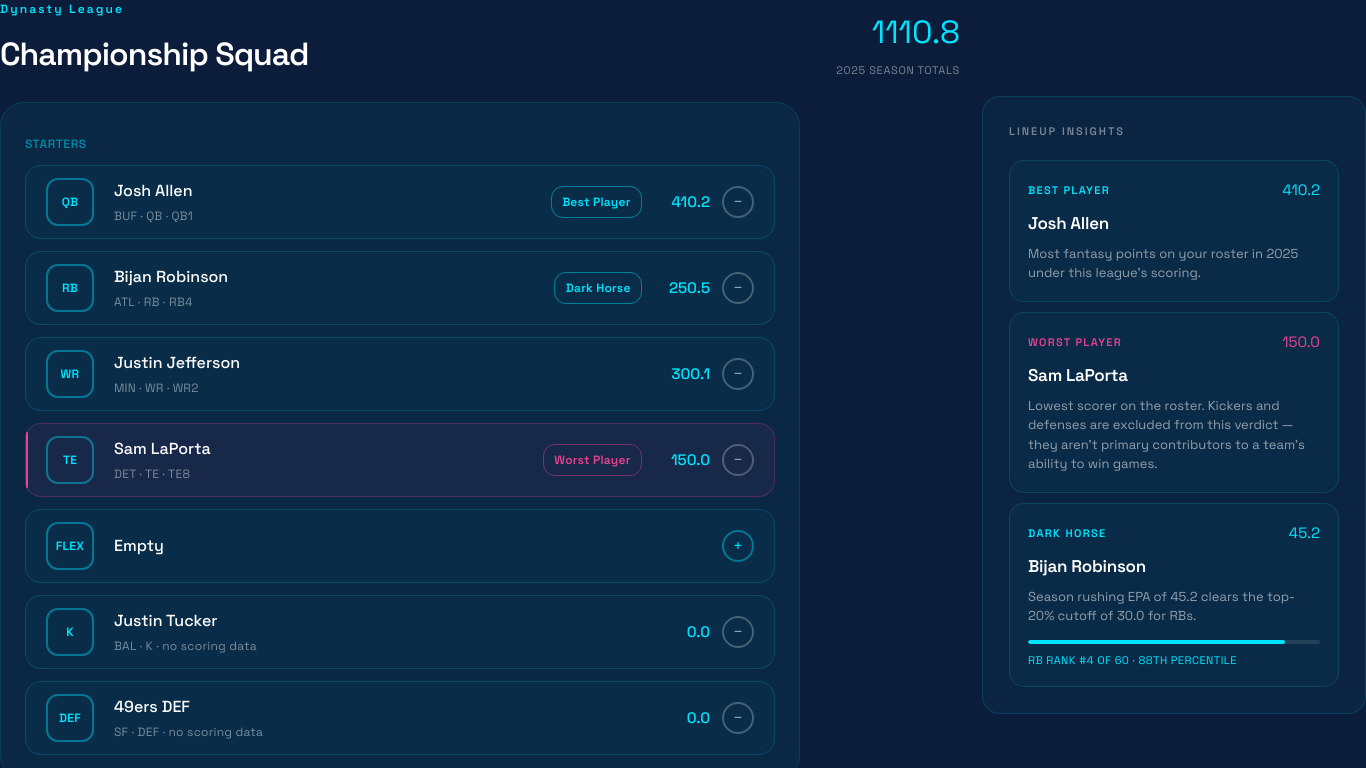
Test: ViewLineupPanel › opens the add-player overlay for an empty slot, filters eligible players, and adds the selection via POST /add-player
The image size is (1366, 768).
Expected: the text "Empty" is shown, [114,535,164,556]
Click the button named "Add player to FLEX".
click(738, 546)  # box [722,530,754,562]
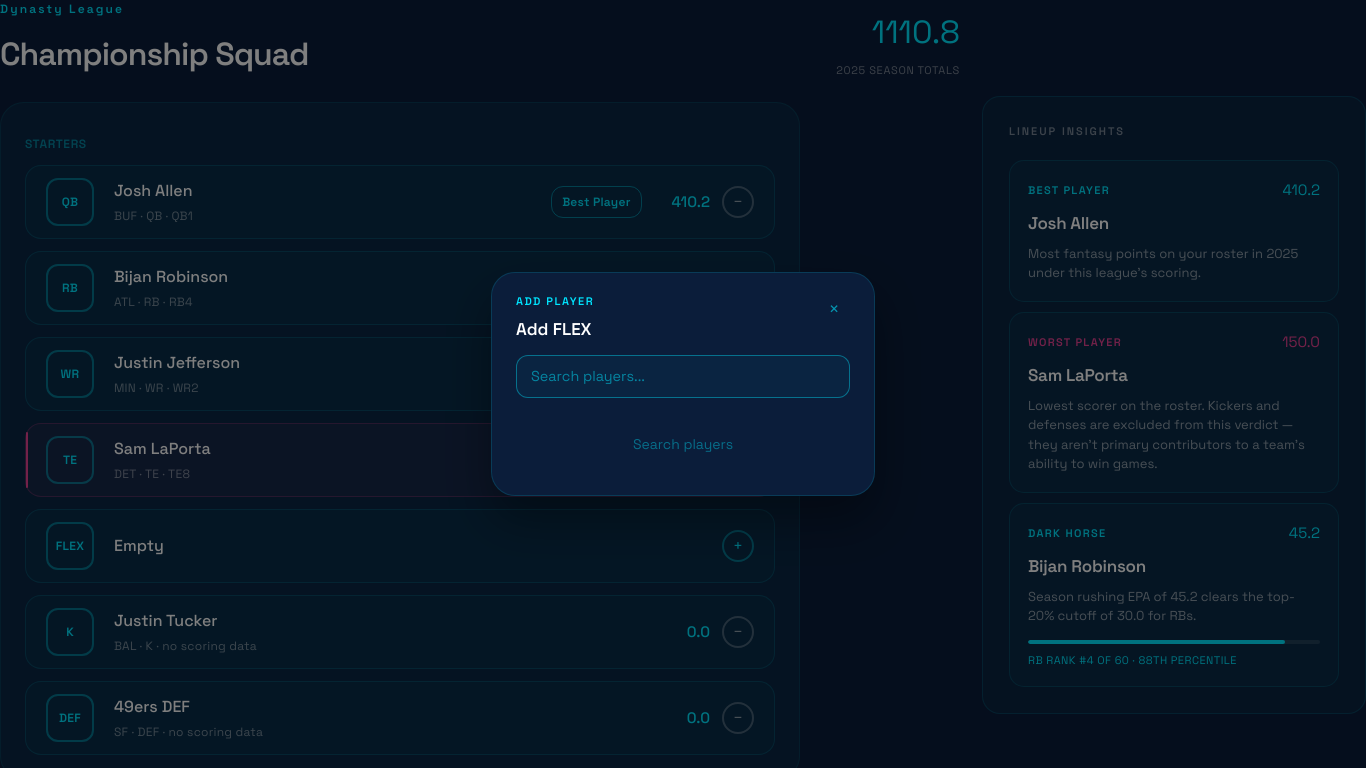
Now the text "Add FLEX" is shown, box [516,317,594,343]
Type "Free Agent" into the field with placeholder "Search players...".
click(683, 376); type("Free Agent")  # box [516,355,850,398]
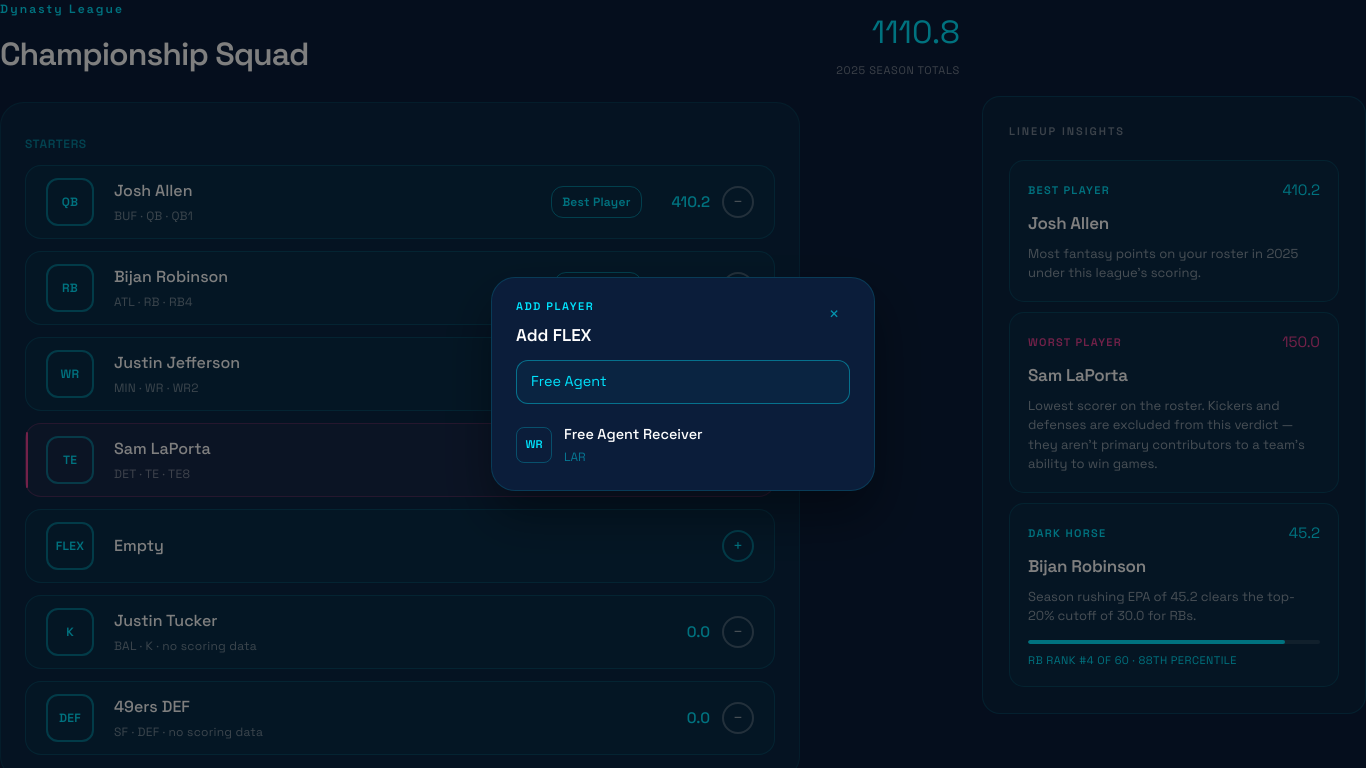
Now the text "Free Agent Receiver" is shown
Click the text "Free Agent Receiver".
click(633, 435)  # box [564,424,703,446]
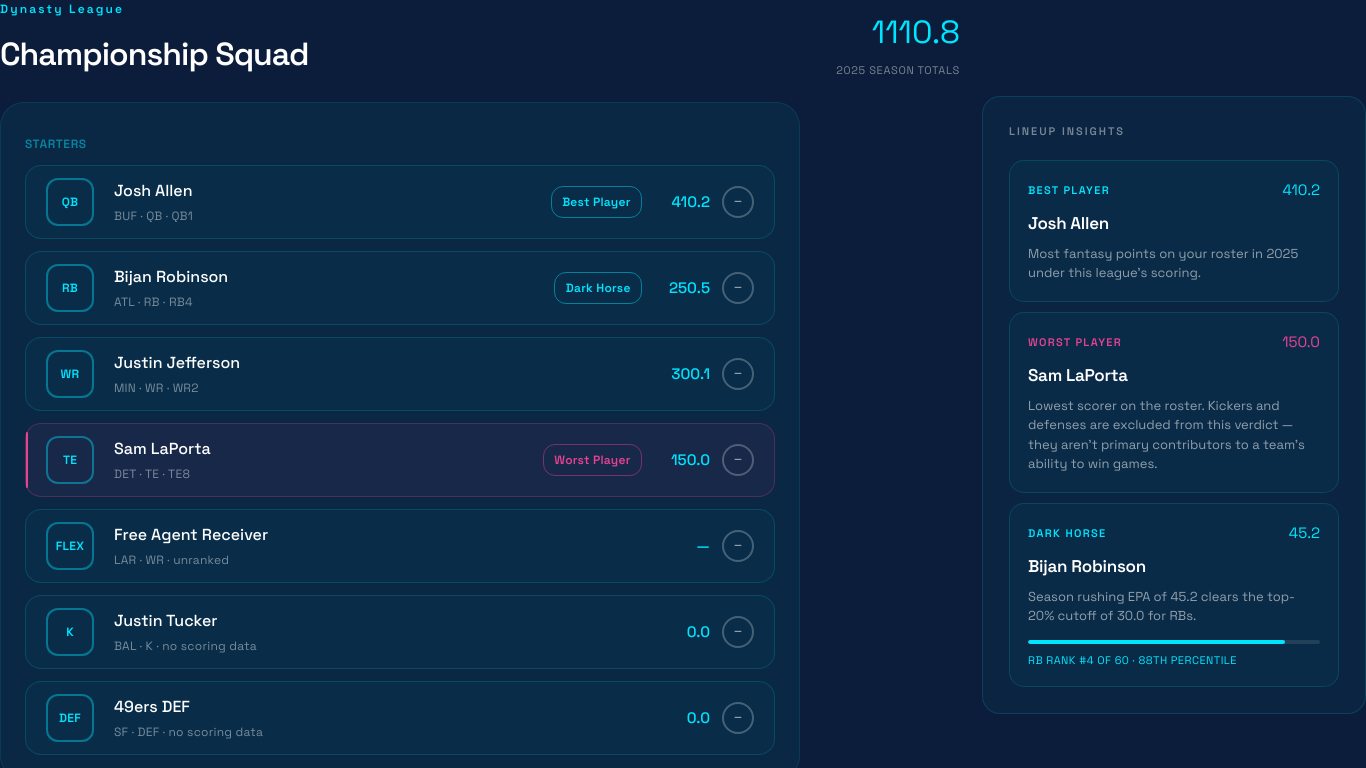
Expected: the field with placeholder "Search players..." is not shown
Now the text "Free Agent Receiver" is shown, box [114,524,268,545]
